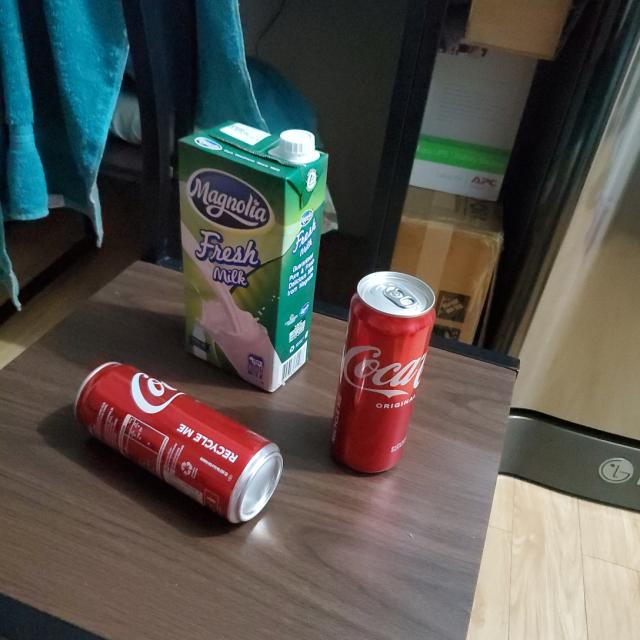coke: (70, 358, 280, 523), (333, 271, 440, 476)
milk: (175, 118, 330, 395)
